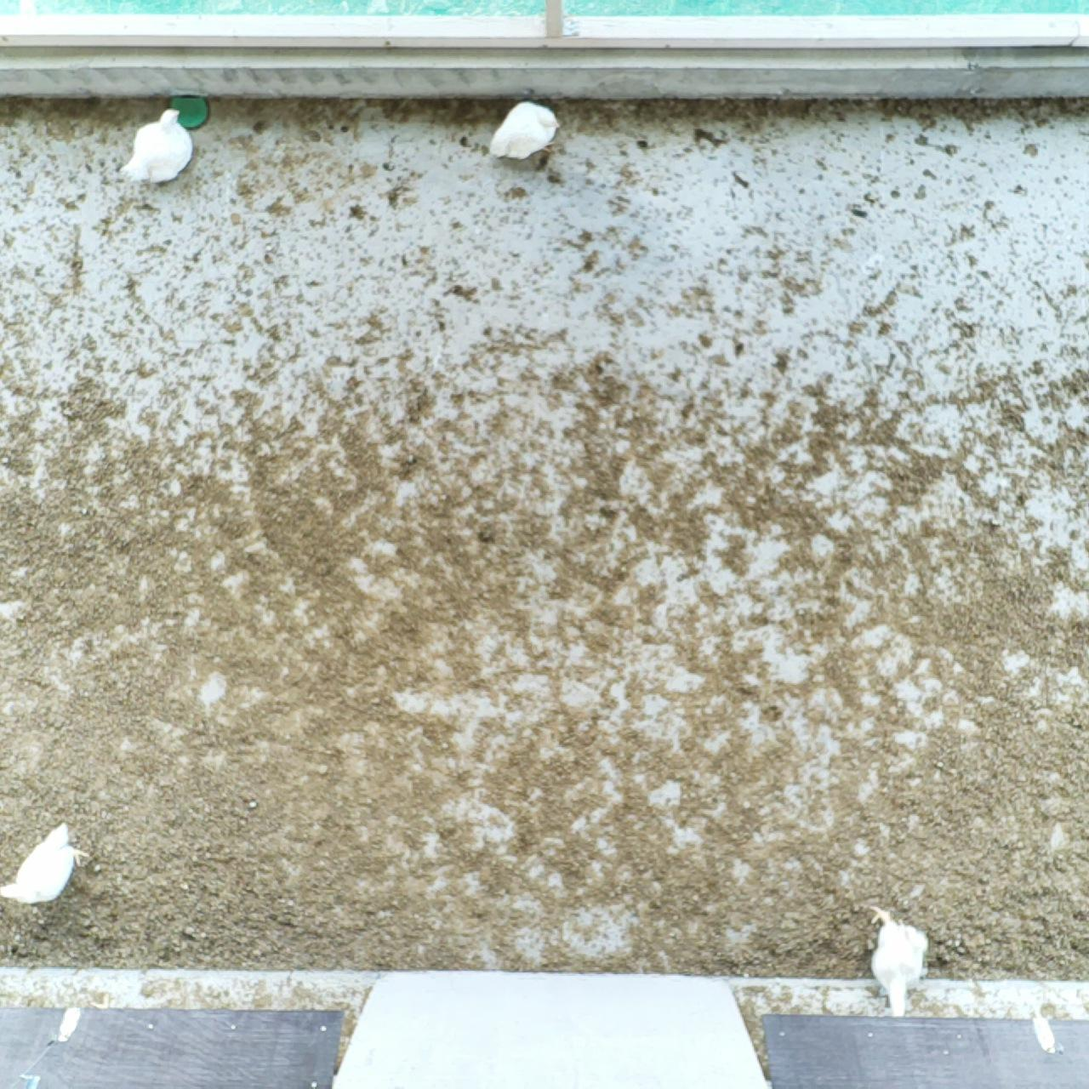chicken: (0, 805, 82, 910), (866, 903, 935, 1023), (115, 99, 202, 193), (481, 99, 563, 169)
